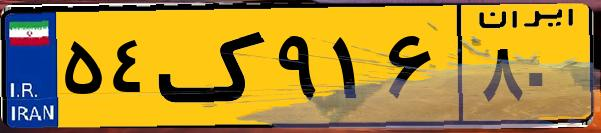0: (525, 38, 570, 115)
1: (330, 28, 385, 110)
4: (110, 28, 158, 98)
5: (57, 26, 110, 100)
6: (385, 28, 445, 110)
8: (475, 38, 525, 113)
9: (270, 28, 330, 110)
ک: (158, 12, 270, 120)
